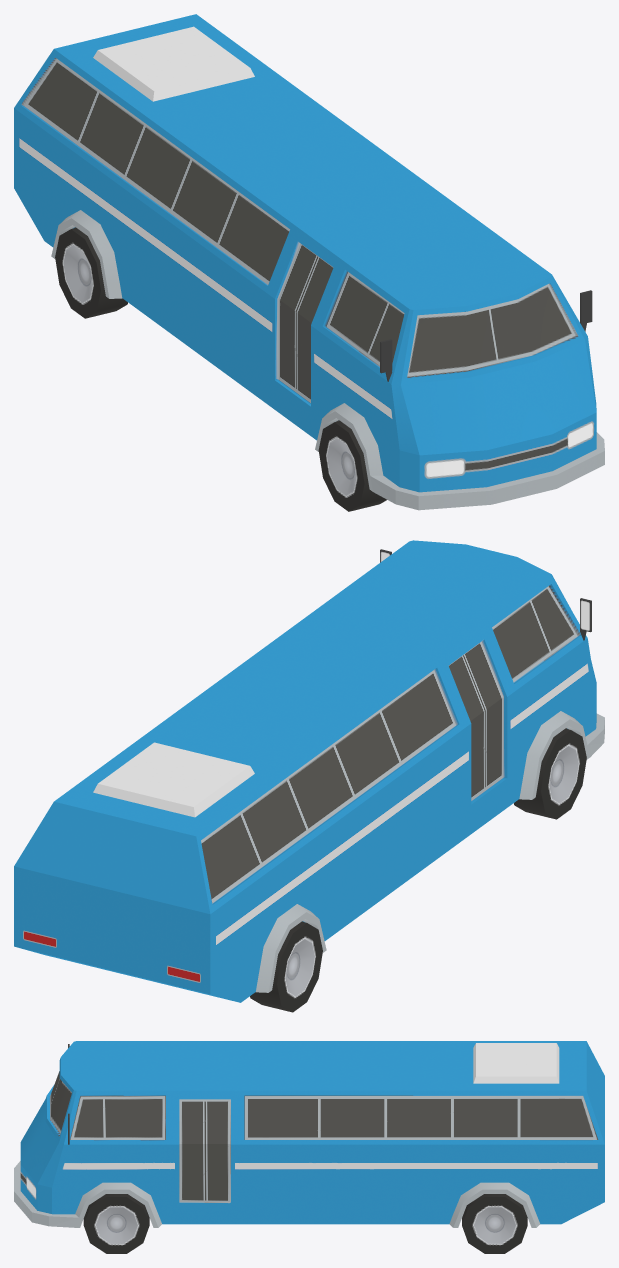
File: Bus.glb
3 renders of one model, top to bottom at view 1: azimuth 30°, elevation 25°; view 2: azimuth 150°, elevation 25°; view 3: azimuth 270°, elevation 25°, orthographic. The views are drawn at different scales.
Parts seen in each view (by area): view 1: Object018; view 2: Object018; view 3: Object018.
Part boxes in pixels (<box>): Object018: <box>14,14,604,511</box>; Object018: <box>14,540,604,1012</box>; Object018: <box>14,1041,604,1253</box>.
Bounding box in the file's own units: 1.24 × 1.15 × 3.98.
5 materials, 5 textured.
